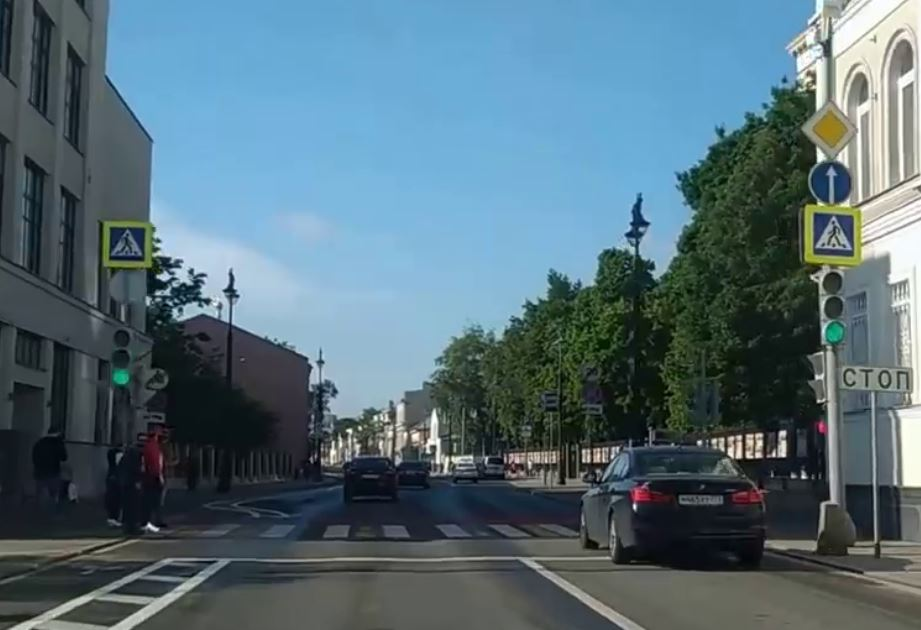Yaya Gecidi: (817, 211, 858, 254), (112, 227, 148, 263)
